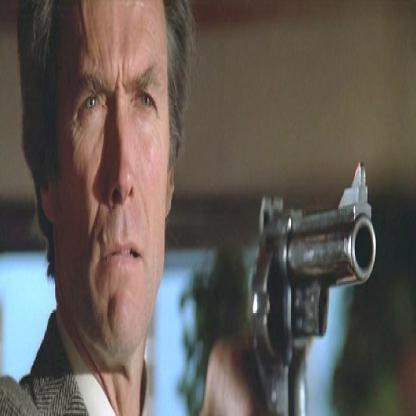Pistol: (240, 159, 380, 414)
